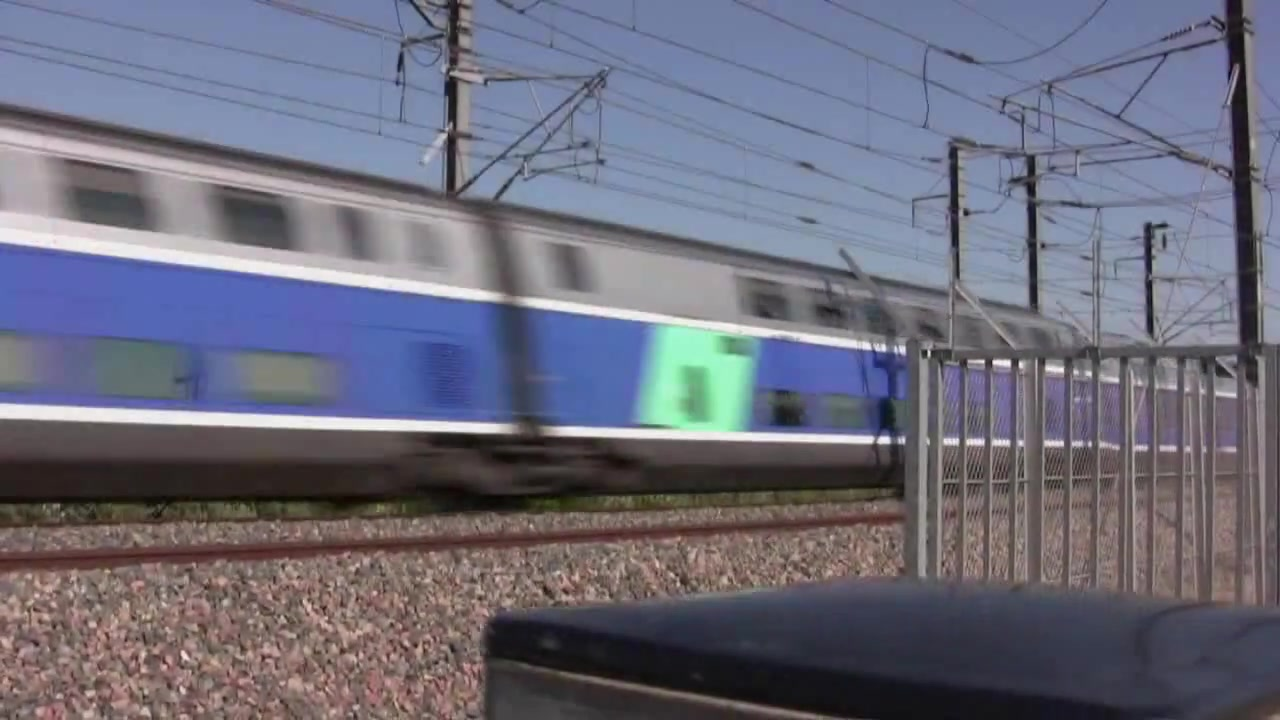train: (1, 98, 1280, 508)
